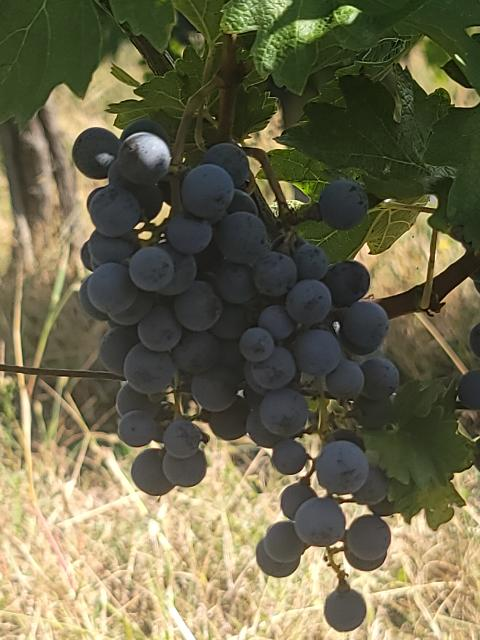grapes: (74, 121, 298, 446), (240, 240, 399, 575), (138, 420, 200, 491), (259, 300, 296, 334)
